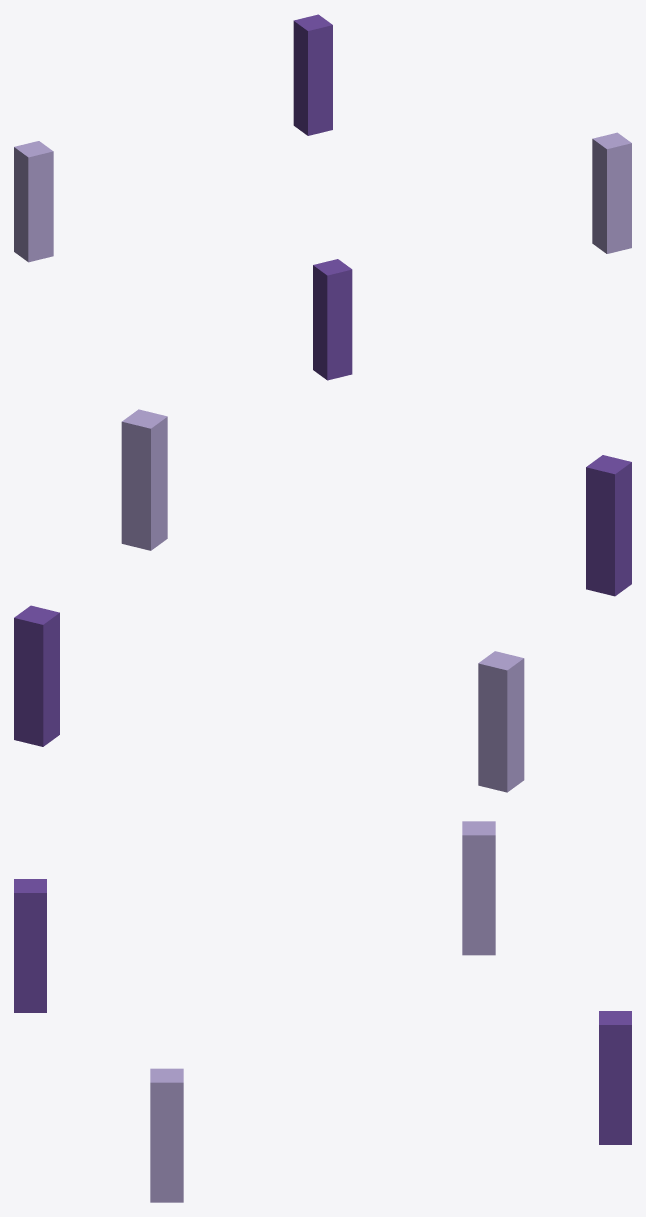
Rendered from boundary.glb.
3 views of the same model, one above another, from view 1: azimuth 30°, elevation 25°; view 2: azimuth 150°, elevation 25°; view 3: azimuth 270°, elevation 25° (orthographic). The views are drawn at different scales.
Visible parts, largest first — view 1: boundary_0, boundary_2, boundary_1, boundary_3; view 2: boundary_0, boundary_2, boundary_1, boundary_3; view 3: boundary_0, boundary_2, boundary_1, boundary_3.
Boxes of the visible parts, left/top/right/bottom form: boundary_0: left=592, top=132, right=631, bottom=253; boundary_2: left=14, top=141, right=53, bottom=262; boundary_1: left=313, top=259, right=352, bottom=380; boundary_3: left=293, top=14, right=332, bottom=135; boundary_0: left=121, top=409, right=167, bottom=550; boundary_2: left=478, top=651, right=524, bottom=792; boundary_1: left=586, top=455, right=631, bottom=596; boundary_3: left=14, top=605, right=59, bottom=746; boundary_0: left=150, top=1068, right=183, bottom=1202; boundary_2: left=462, top=821, right=495, bottom=955; boundary_1: left=14, top=879, right=46, bottom=1012; boundary_3: left=599, top=1011, right=631, bottom=1144.
Size of what is drawn, in the model's own units: 15.85 by 3.4 by 15.85.
